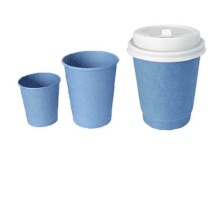paper_cup: (122, 18, 209, 133), (57, 46, 123, 132), (14, 68, 64, 130)
